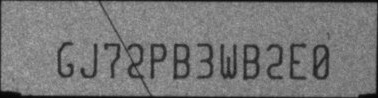0: (312, 43, 331, 80)
2: (126, 41, 145, 78), (266, 43, 284, 80)
3: (196, 41, 212, 79)
7: (104, 41, 120, 77)
B: (172, 42, 191, 79), (241, 43, 259, 79)
E: (289, 41, 306, 80)
G: (56, 41, 74, 77)
J: (79, 43, 97, 77)
P: (149, 42, 167, 78)
W: (219, 42, 237, 79)
